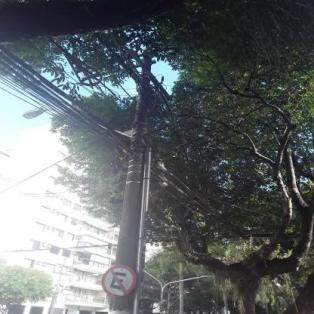Poste: (99, 39, 164, 314)
